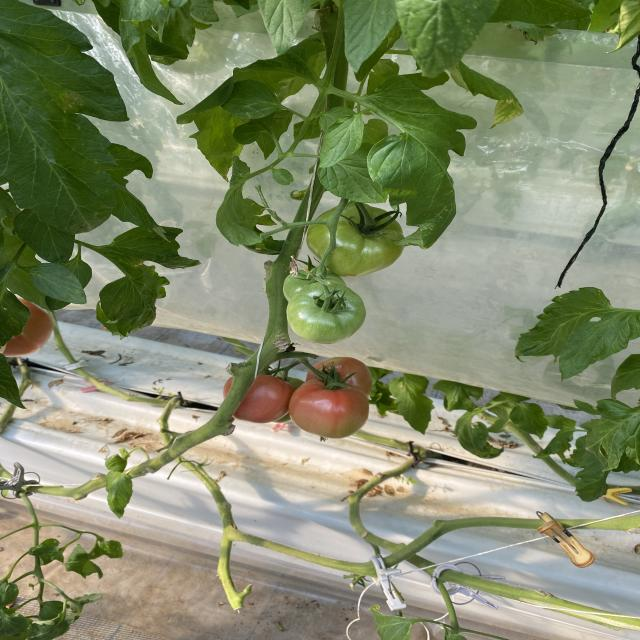n-half-riped: (288, 379, 370, 439), (4, 299, 54, 357), (306, 356, 372, 397)
n-riped: (223, 374, 294, 423)
n-unriped: (306, 202, 406, 278), (286, 281, 366, 344), (282, 270, 348, 302)
